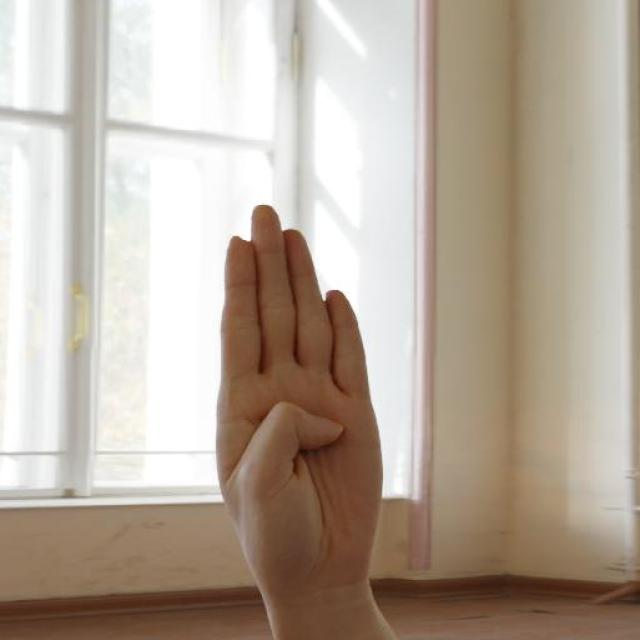B: (208, 199, 375, 590)
